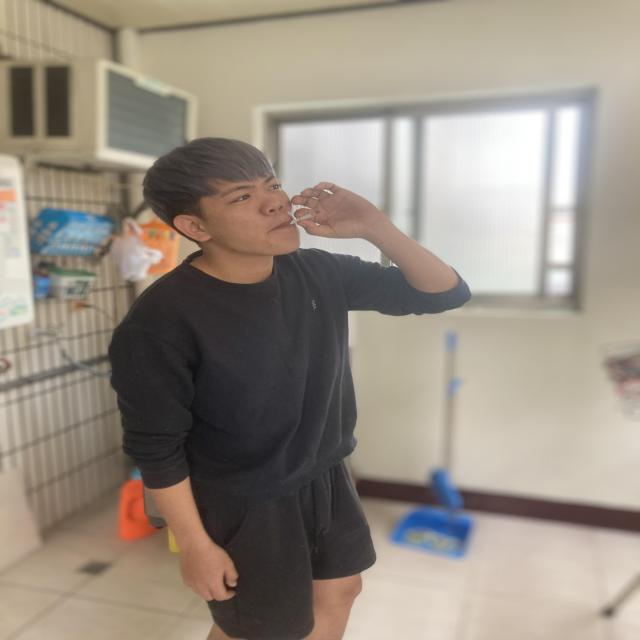cigarette: (279, 205, 329, 236)
